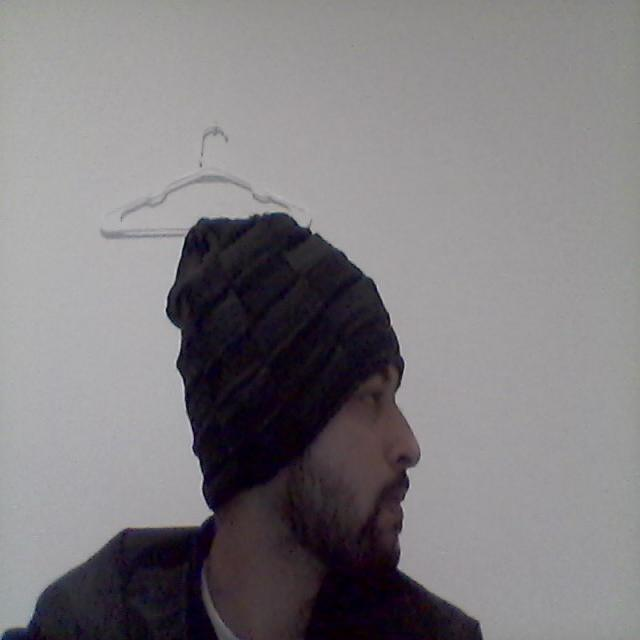cap: (140, 207, 420, 476)
